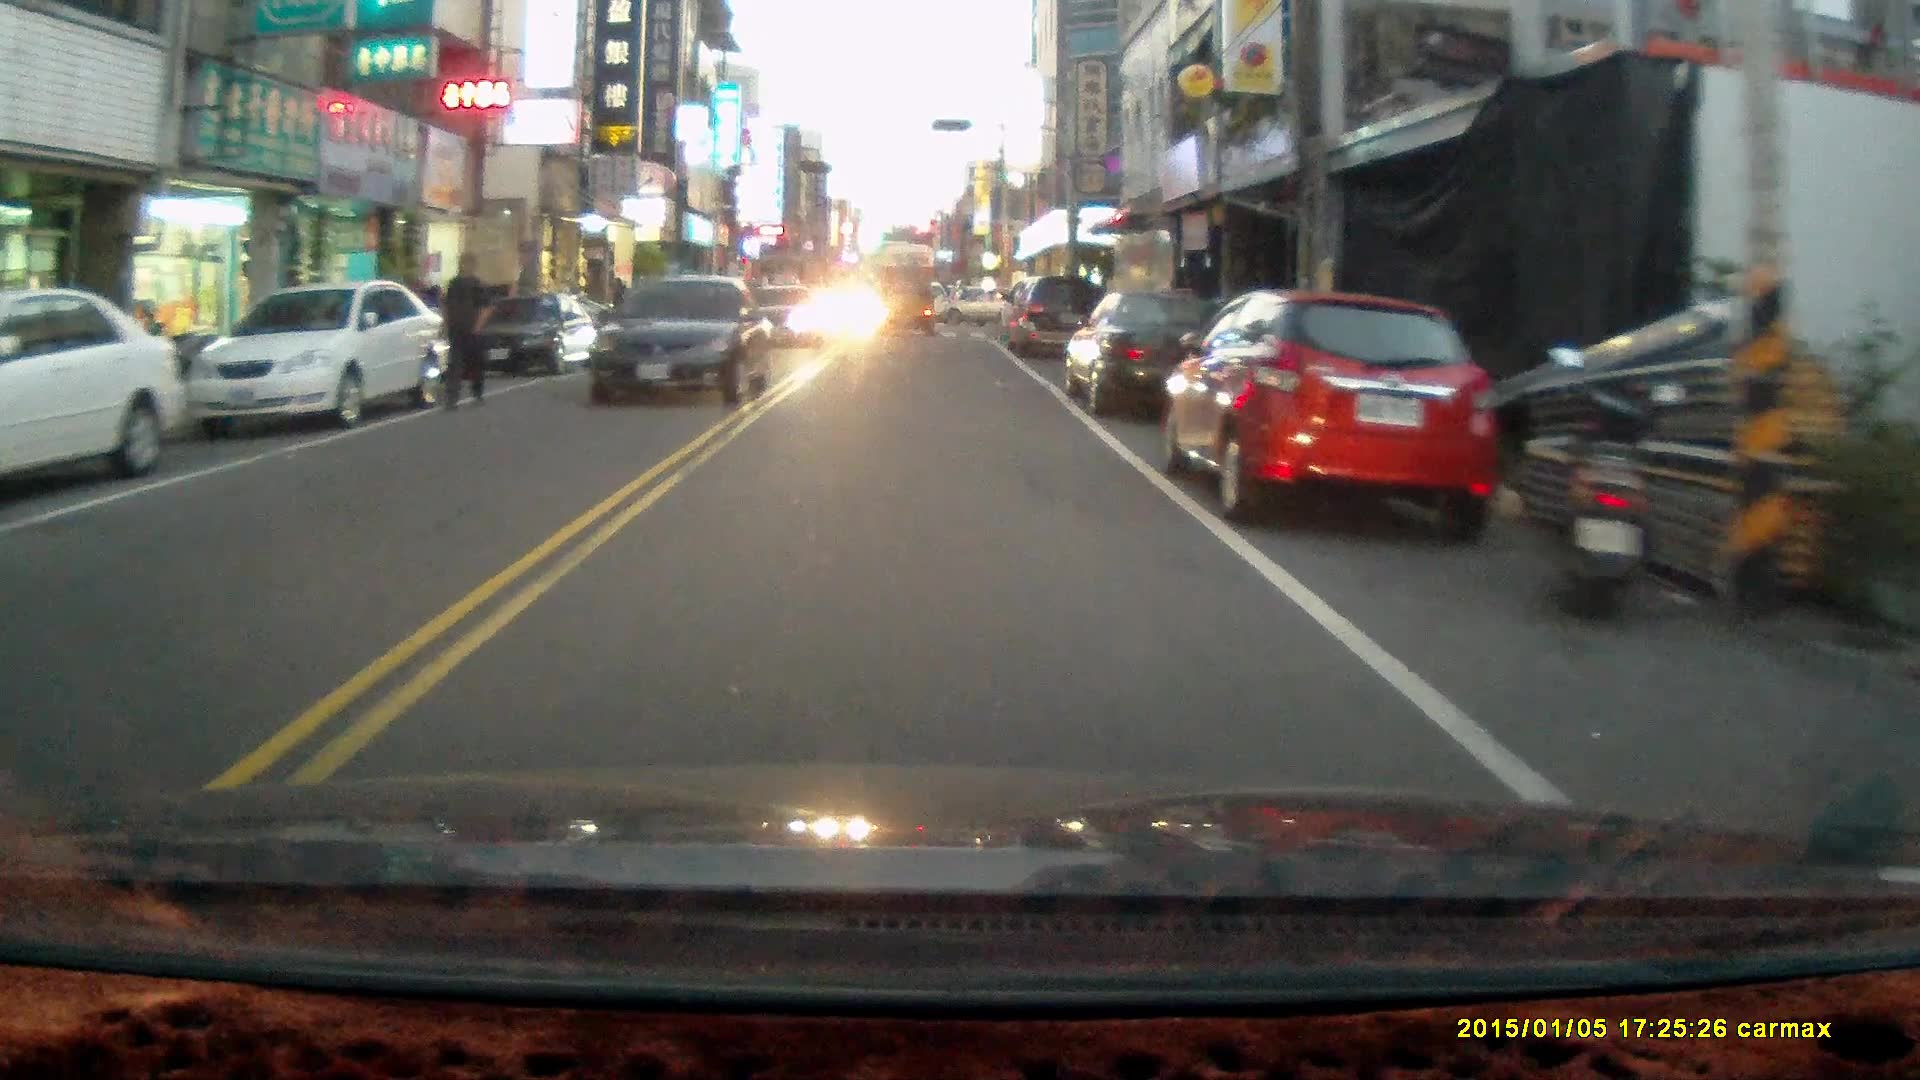pedestrian: (431, 248, 494, 412)
vehicle: (1164, 293, 1507, 534), (1, 287, 188, 503), (189, 277, 451, 430), (585, 272, 778, 407), (1064, 287, 1230, 421), (469, 289, 597, 383), (998, 271, 1113, 362), (872, 264, 938, 336)
